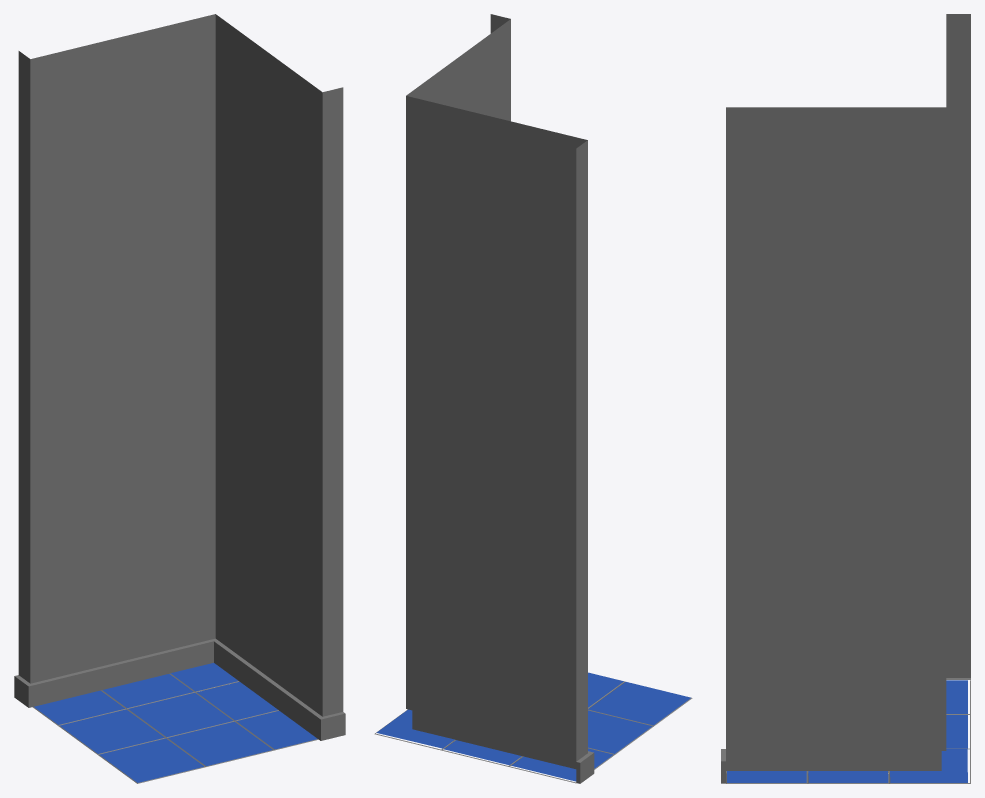
File: koseduvar.fbx
3 views of the same model, side by side, from view 1: azimuth 30°, elevation 25°; view 2: azimuth 150°, elevation 25°; view 3: azimuth 270°, elevation 25° (orthographic). The views are drawn at different scales.
Parts seen in each view (by area): view 1: koseduvar, Plane002; view 2: koseduvar, Plane002; view 3: koseduvar, Plane002.
Part boxes in pixels (x1,y1,x2,y2): koseduvar: [14, 14, 345, 782]; Plane002: [32, 673, 318, 783]; koseduvar: [376, 14, 690, 783]; Plane002: [374, 681, 692, 783]; koseduvar: [721, 14, 970, 783]; Plane002: [726, 680, 970, 783].
Size of the model in its own units: 102 by 300 by 102.
